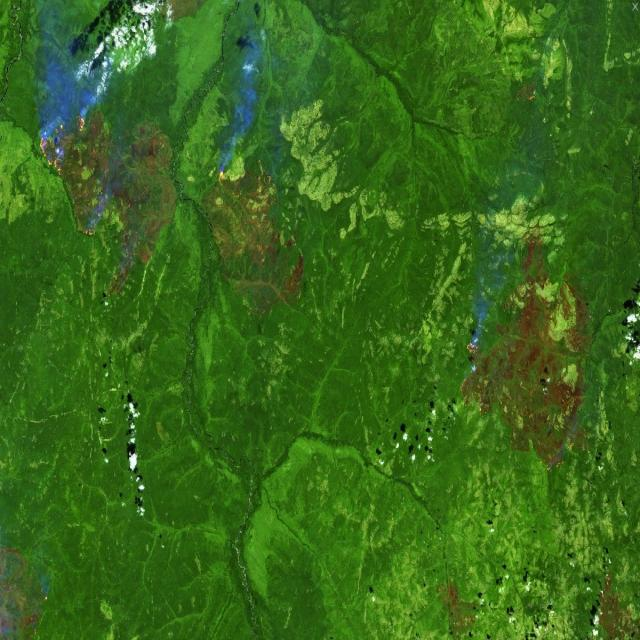fire: (36, 106, 89, 183), (461, 330, 486, 368), (82, 213, 102, 243), (212, 162, 234, 186)
